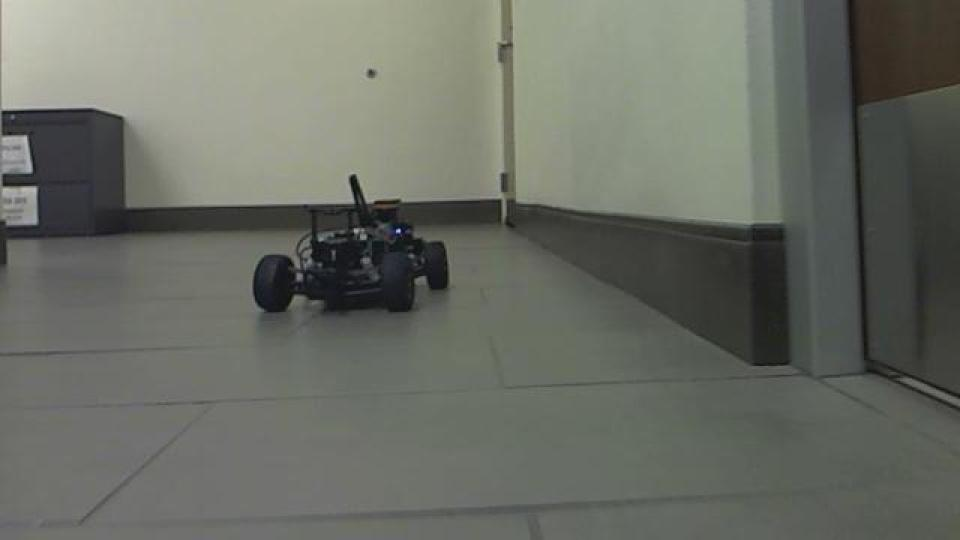car: (249, 171, 451, 317)
